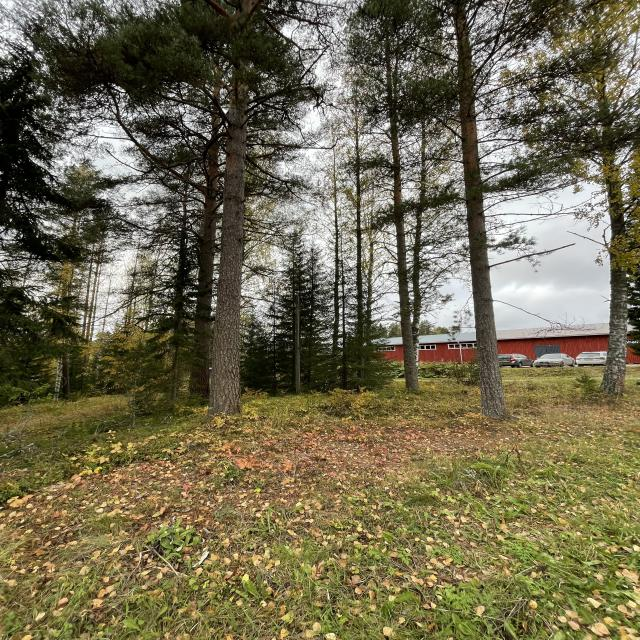spruce: (271, 227, 327, 393), (341, 300, 391, 396), (244, 319, 278, 396)
